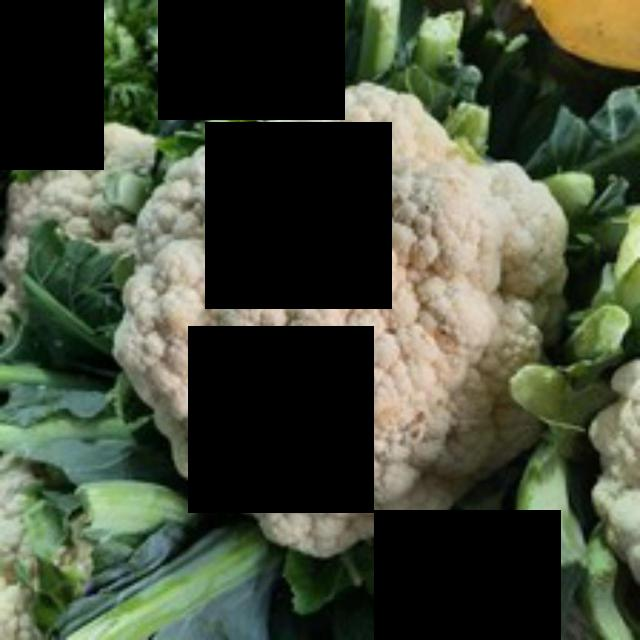cauliflower: (117, 78, 588, 572)
